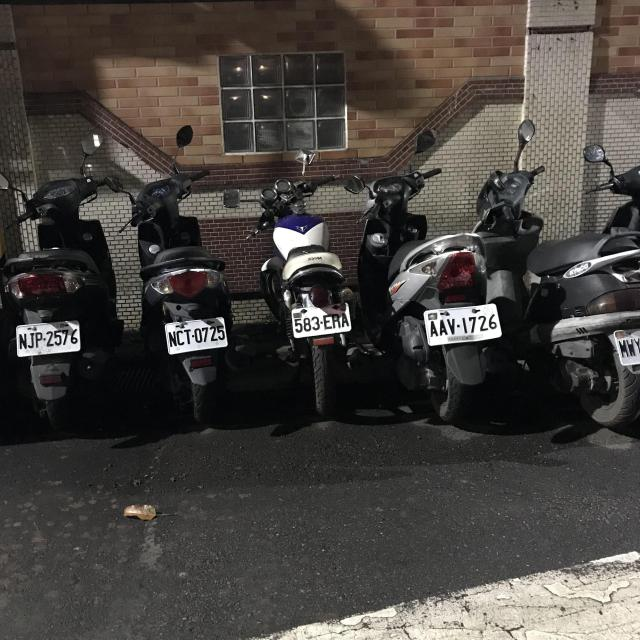W: (421, 301, 506, 347), (13, 319, 84, 357), (160, 316, 231, 354), (288, 302, 354, 339), (610, 317, 640, 368)
